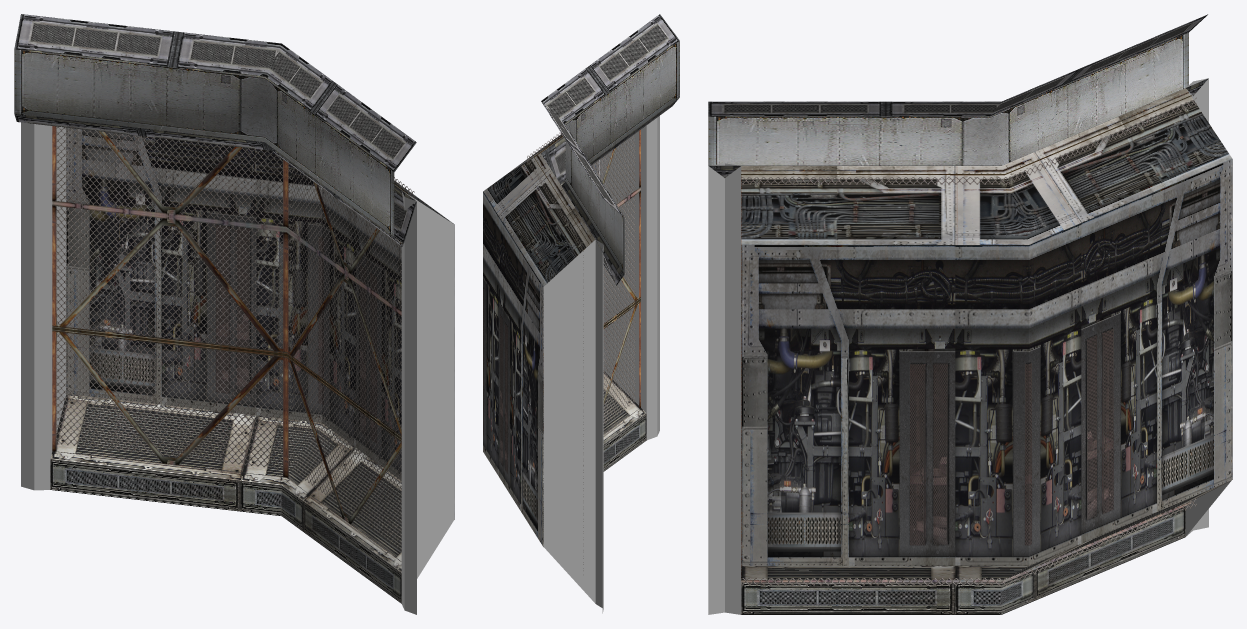
Rendered from Wall_E_Mid4mts_30.fbx.
The picture shows the model from 3 angles, left to right: view 1: azimuth 30°, elevation 25°; view 2: azimuth 150°, elevation 25°; view 3: azimuth 270°, elevation 25°; orthographic projection. The views are drawn at different scales.
Parts seen in each view (by area): view 1: Wall_Framework, Metal Grid, Wall_E_Mid4mts_34; view 2: Wall_Framework, Metal Grid, Wall_E_Mid4mts_34; view 3: Wall_Framework, Metal Grid, Wall_E_Mid4mts_34.
Part boxes in pixels (x1,y1,x2,y2): Wall_Framework: (14, 14, 454, 614); Metal Grid: (56, 126, 414, 550); Wall_E_Mid4mts_34: (52, 126, 408, 561); Wall_Framework: (483, 14, 679, 613); Metal Grid: (527, 132, 635, 574); Wall_E_Mid4mts_34: (534, 129, 640, 434); Wall_Framework: (708, 14, 1232, 614); Metal Grid: (741, 97, 1196, 585); Wall_E_Mid4mts_34: (741, 95, 1191, 582).
Size of the model in its own units: 208 by 400 by 370.
